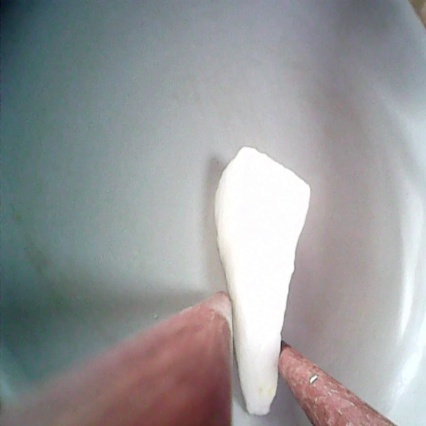white_chinese-yam: (209, 145, 320, 417)
